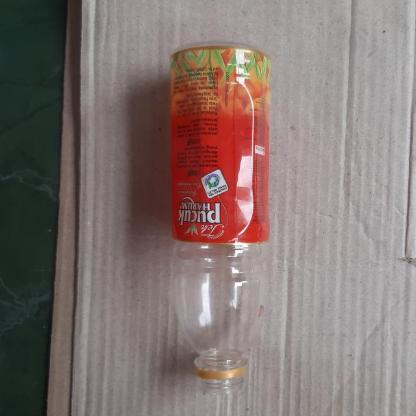Plastic Bottle: (171, 39, 273, 395)
